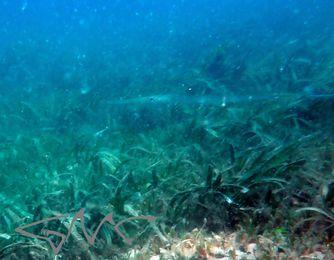Fistularia commersonii: (53, 58, 334, 131)
